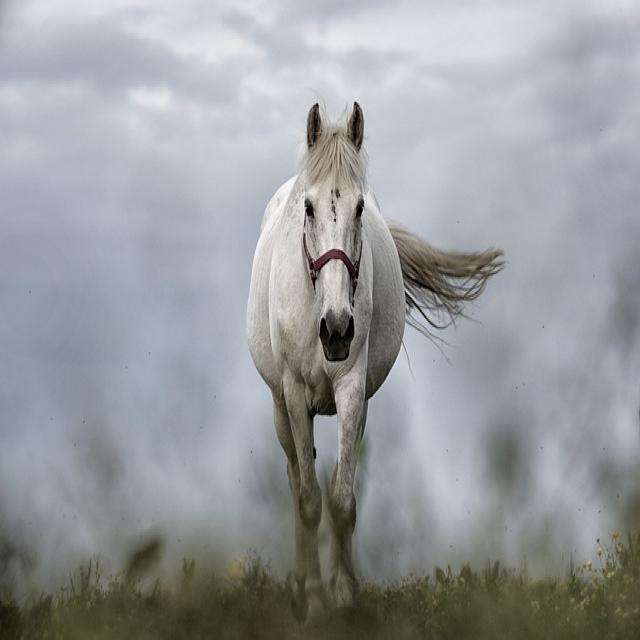Herbivorous: (246, 103, 505, 619)
